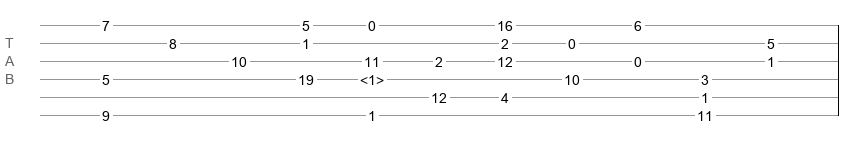0: (368, 18, 376, 28), (568, 36, 576, 46), (634, 54, 642, 64)
1: (302, 36, 310, 46), (368, 108, 376, 118), (701, 90, 709, 100), (767, 54, 775, 64)
10: (231, 54, 247, 64), (564, 72, 580, 82)
11: (364, 54, 380, 64), (697, 108, 713, 118)
12: (431, 90, 447, 100), (497, 54, 513, 64)
16: (497, 18, 513, 28)
19: (298, 72, 314, 82)
2: (435, 54, 443, 64), (501, 36, 509, 46)
3: (701, 72, 709, 82)
4: (501, 90, 509, 100)
5: (102, 72, 110, 82), (302, 18, 310, 28), (767, 36, 775, 46)
6: (634, 18, 642, 28)
7: (102, 18, 110, 28)
8: (169, 36, 177, 46)
9: (102, 108, 110, 118)
harmonic: (360, 72, 384, 82)
